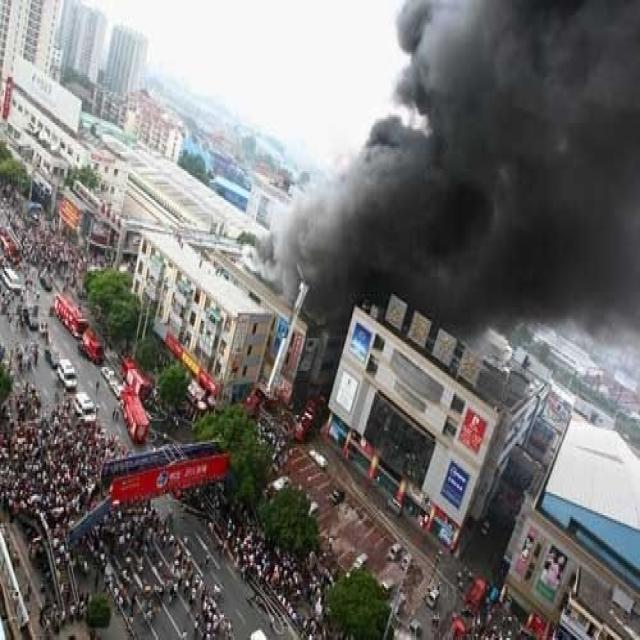Smoke: (240, 2, 640, 346)
